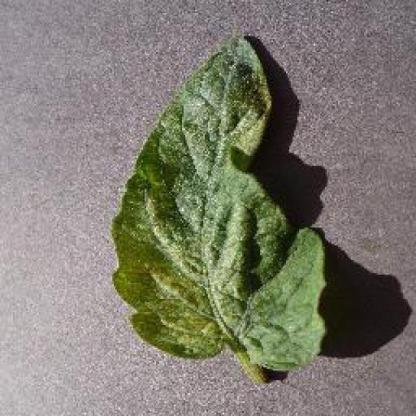Tomato_Spider_Mites: (112, 34, 330, 369)
